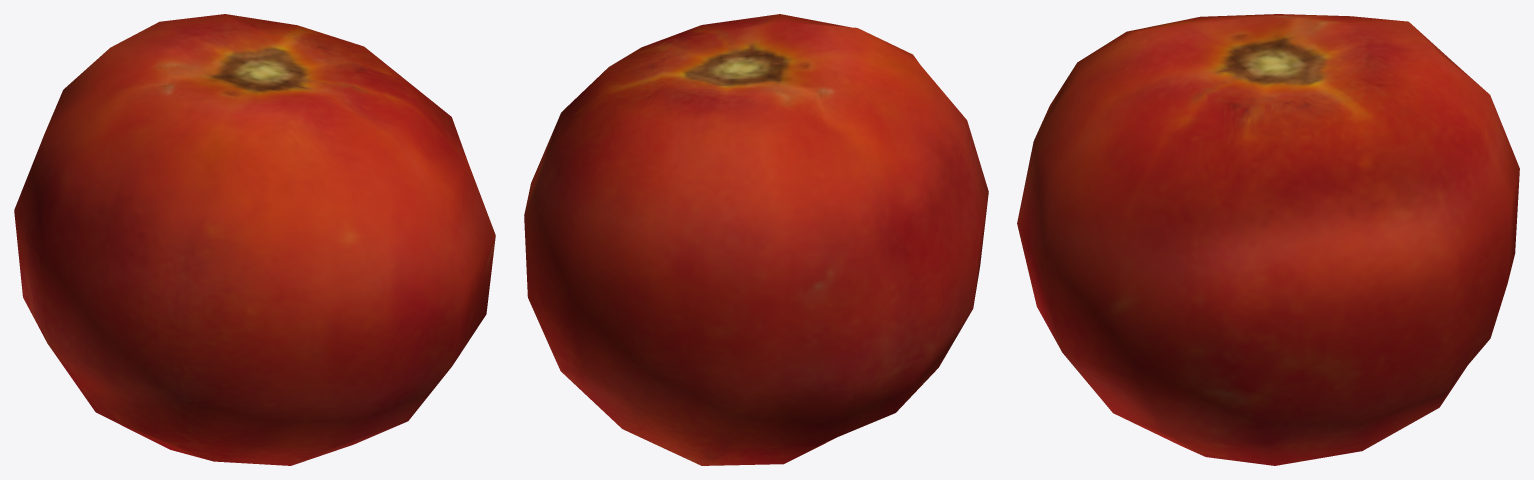
The model's file is Prop_Vegetables_Tomatoes_x2.fbx.
3 views of the same model, side by side, from view 1: azimuth 30°, elevation 25°; view 2: azimuth 150°, elevation 25°; view 3: azimuth 270°, elevation 25° (orthographic). The views are drawn at different scales.
Parts seen in each view (by area): view 1: Prop_Vegetables_Tomatoes_x2; view 2: Prop_Vegetables_Tomatoes_x2; view 3: Prop_Vegetables_Tomatoes_x2.
Boxes of the visible parts, x1=… form: Prop_Vegetables_Tomatoes_x2: x1=14, y1=14, x2=495, y2=465; Prop_Vegetables_Tomatoes_x2: x1=524, y1=14, x2=988, y2=465; Prop_Vegetables_Tomatoes_x2: x1=1017, y1=14, x2=1519, y2=465.
Bounding box in the file's own units: 4.78 × 4.32 × 5.04.
